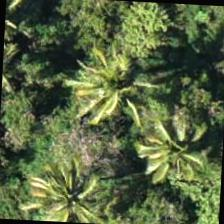Kelapa_Sawit: (68, 38, 163, 132), (40, 147, 136, 223), (109, 0, 204, 75), (2, 0, 70, 75)
